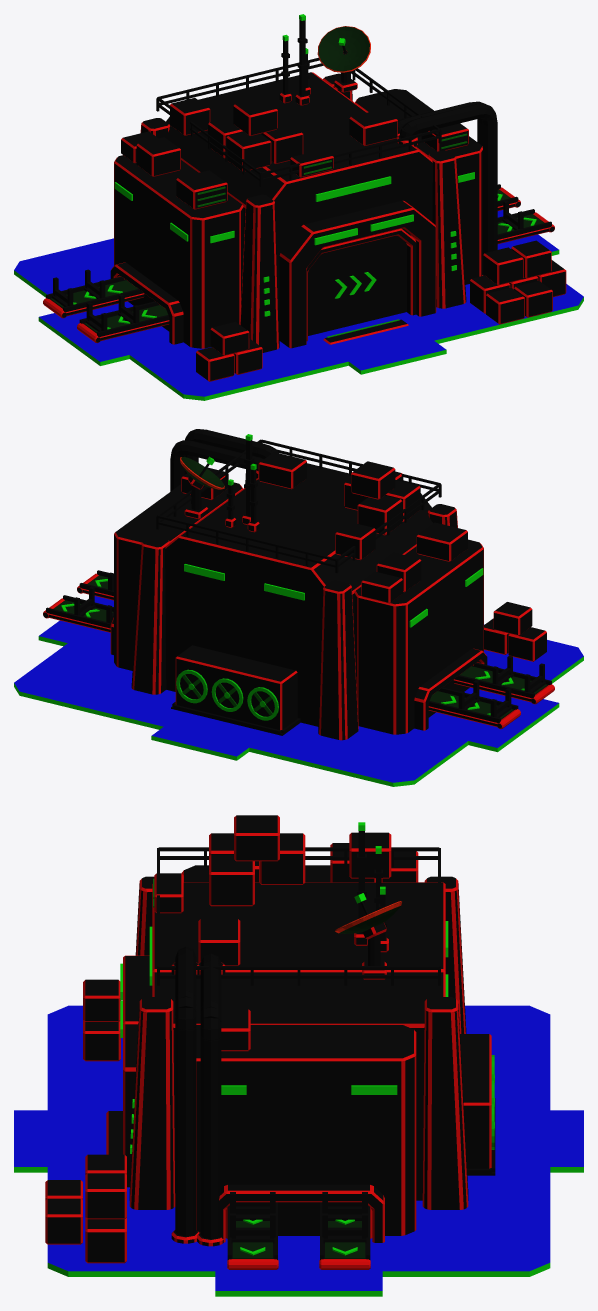
File: SM_Holo_LogisticsHub_T3.fbx
The picture shows the model from 3 angles, top to bottom: view 1: azimuth 30°, elevation 25°; view 2: azimuth 150°, elevation 25°; view 3: azimuth 270°, elevation 25°; orthographic projection. The views are drawn at different scales.
Parts seen in each view (by area): view 1: SM_Holo_LogisticsHub_T3; view 2: SM_Holo_LogisticsHub_T3; view 3: SM_Holo_LogisticsHub_T3.
Part boxes in pixels (x1,y1,x2,y2): SM_Holo_LogisticsHub_T3: (14,14,583,400); SM_Holo_LogisticsHub_T3: (14,429,583,786); SM_Holo_LogisticsHub_T3: (14,815,583,1296).
Size of the model in its own units: 34.51 by 17.97 by 27.2.
